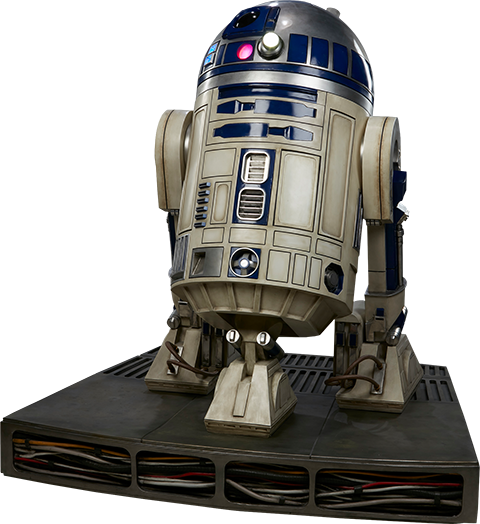r2d2: (144, 1, 425, 436)
